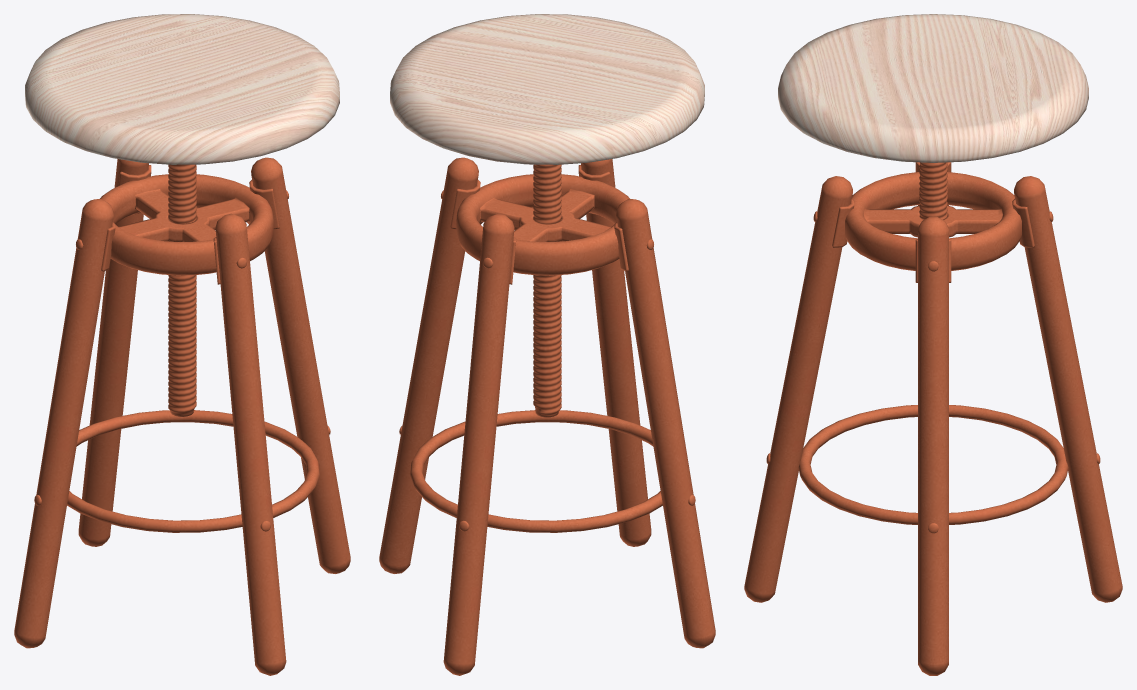
Rendered from chair.gltf.
3 renders of one model, left to right at view 1: azimuth 30°, elevation 25°; view 2: azimuth 150°, elevation 25°; view 3: azimuth 270°, elevation 25°, orthographic.
Parts seen in each view (by area): view 1: seat_mesh_n3d, leg_002_mesh_n3d, leg_003_mesh_n3d, cross_mesh_n3d, leg_001_mesh_n3d, leg_004_mesh_n3d, ring_mesh_n3d, support_mesh_n3d; view 2: seat_mesh_n3d, leg_004_mesh_n3d, leg_003_mesh_n3d, cross_mesh_n3d, leg_001_mesh_n3d, leg_002_mesh_n3d, ring_mesh_n3d, support_mesh_n3d; view 3: seat_mesh_n3d, leg_001_mesh_n3d, leg_002_mesh_n3d, leg_004_mesh_n3d, cross_mesh_n3d, ring_mesh_n3d, support_mesh_n3d.
Part boxes in pixels (<box>): seat_mesh_n3d: <box>25,14,339,164</box>; leg_002_mesh_n3d: <box>215,213,286,675</box>; leg_003_mesh_n3d: <box>14,199,113,648</box>; cross_mesh_n3d: <box>100,165,279,284</box>; leg_001_mesh_n3d: <box>251,157,350,573</box>; leg_004_mesh_n3d: <box>78,159,148,546</box>; ring_mesh_n3d: <box>67,410,319,532</box>; support_mesh_n3d: <box>168,164,196,416</box>; seat_mesh_n3d: <box>390,14,704,164</box>; leg_004_mesh_n3d: <box>443,213,514,675</box>; leg_003_mesh_n3d: <box>616,199,715,648</box>; cross_mesh_n3d: <box>450,165,629,284</box>; leg_001_mesh_n3d: <box>379,157,478,573</box>; leg_002_mesh_n3d: <box>581,159,651,546</box>; ring_mesh_n3d: <box>410,410,662,532</box>; support_mesh_n3d: <box>533,164,561,417</box>; seat_mesh_n3d: <box>778,14,1088,162</box>; leg_001_mesh_n3d: <box>918,216,948,675</box>; leg_002_mesh_n3d: <box>744,176,852,602</box>; leg_004_mesh_n3d: <box>1014,176,1122,602</box>; cross_mesh_n3d: <box>832,162,1034,282</box>; ring_mesh_n3d: <box>798,405,1068,524</box>; support_mesh_n3d: <box>919,162,947,219</box>.
Bounding box in the file's own units: 0.4386 × 0.6761 × 0.4386.
3 materials, 2 textured.
